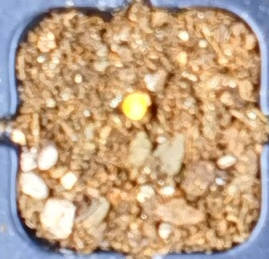pepper seed: (45, 31, 196, 154)
